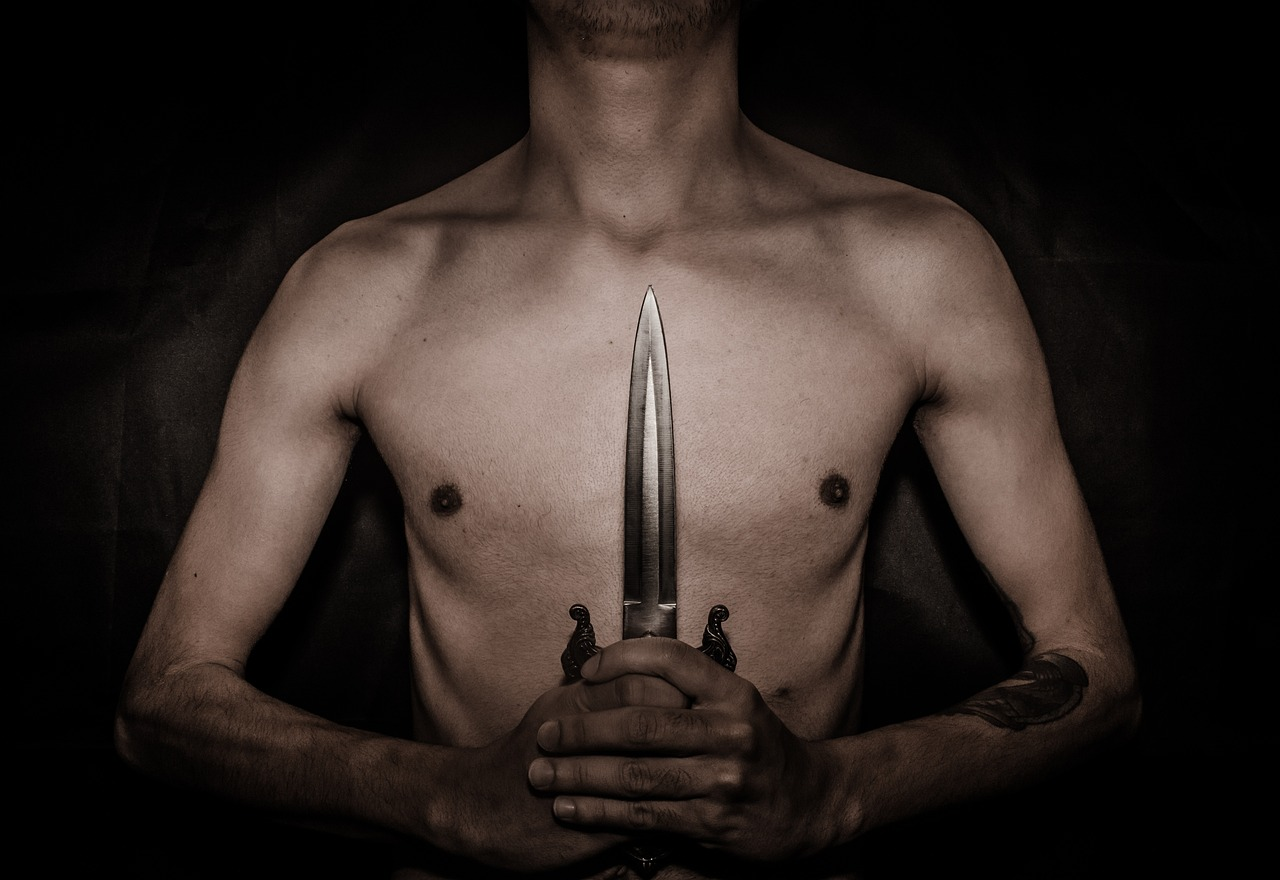knife: (618, 284, 692, 653)
